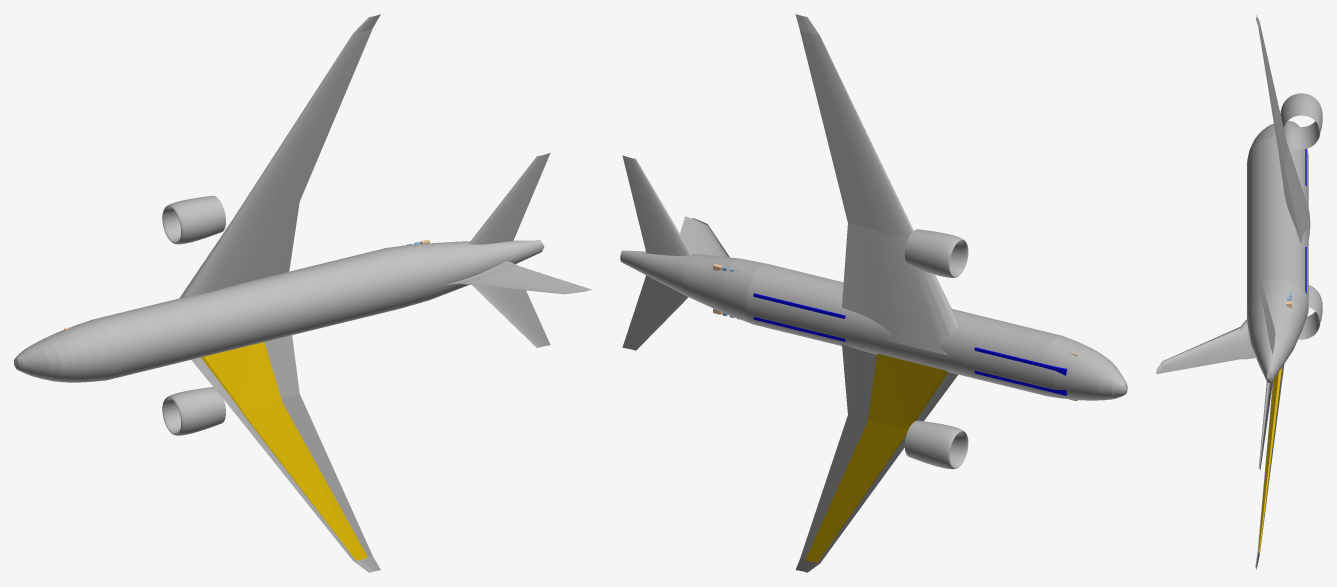
Rendered from Boeing_787_8.gltf.
3 renders of one model, left to right at view 1: azimuth 30°, elevation 25°; view 2: azimuth 150°, elevation 25°; view 3: azimuth 270°, elevation 25°, orthographic.
Visible parts, largest first — view 1: Renderer Node; view 2: Renderer Node; view 3: Renderer Node.
Boxes of the visible parts, x1=… form: Renderer Node: x1=14, y1=14, x2=591, y2=572; Renderer Node: x1=620, y1=14, x2=1127, y2=572; Renderer Node: x1=1156, y1=15, x2=1322, y2=568.
Size of the model in its own units: 56.95 by 58.14 by 15.86.
